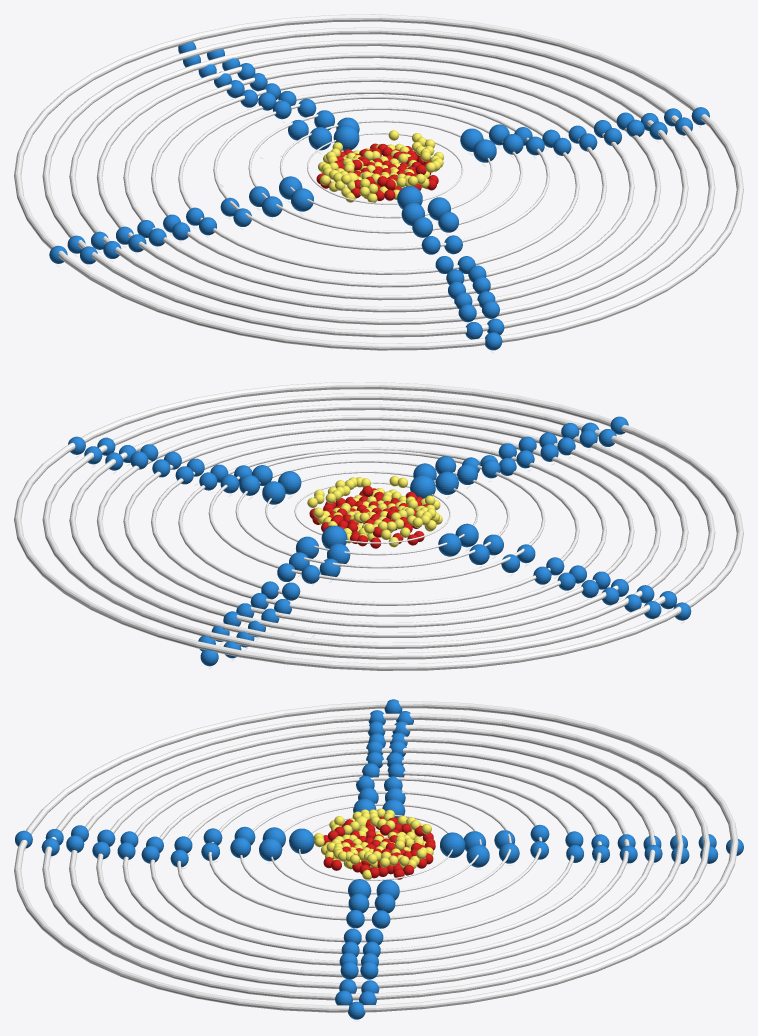
3 views of the same model, one above another, from view 1: azimuth 30°, elevation 25°; view 2: azimuth 150°, elevation 25°; view 3: azimuth 270°, elevation 25° (orthographic).
Visible parts, largest first — view 1: Torus.011, Torus.010, Torus.009, Torus.008, Torus.007, Torus.006, Torus.005, Torus.004, Torus.003, Torus.002, Torus.001; view 2: Torus.011, Torus.010, Torus.009, Torus.008, Torus.007, Torus.006, Torus.005, Torus.004, Torus.003, Torus.002, Torus.001; view 3: Torus.011, Torus.010, Torus.009, Torus.008, Torus.007, Torus.006, Torus.005, Torus.004, Torus.003, Torus.002.
Part boxes in pixels (box(x1,y1,x2,y2)): Torus.011: box(14, 14, 743, 350); Torus.010: box(42, 27, 715, 337); Torus.009: box(69, 40, 688, 324); Torus.008: box(96, 52, 661, 312); Torus.007: box(123, 64, 634, 300); Torus.006: box(151, 77, 606, 287); Torus.005: box(178, 90, 579, 274); Torus.004: box(213, 95, 549, 250); Torus.003: box(248, 107, 522, 233); Torus.002: box(280, 120, 492, 218); Torus.001: box(307, 132, 463, 204); Torus.011: box(14, 382, 743, 670); Torus.010: box(42, 393, 715, 659); Torus.009: box(69, 404, 688, 648); Torus.008: box(97, 415, 660, 637); Torus.007: box(123, 425, 634, 627); Torus.006: box(151, 436, 606, 616); Torus.005: box(178, 447, 579, 605); Torus.004: box(208, 450, 545, 582); Torus.003: box(235, 460, 509, 568); Torus.002: box(265, 471, 478, 555); Torus.001: box(294, 482, 450, 543); Torus.011: box(14, 701, 738, 1012); Torus.010: box(42, 713, 709, 1000); Torus.009: box(69, 724, 683, 988); Torus.008: box(96, 736, 655, 977); Torus.007: box(122, 748, 629, 965); Torus.006: box(150, 759, 601, 953); Torus.005: box(177, 771, 574, 942); Torus.004: box(208, 777, 542, 920); Torus.003: box(240, 791, 511, 907); Torus.002: box(271, 803, 481, 894).
Bounding box in the file's own units: 28.37 × 2.85 × 28.24.
